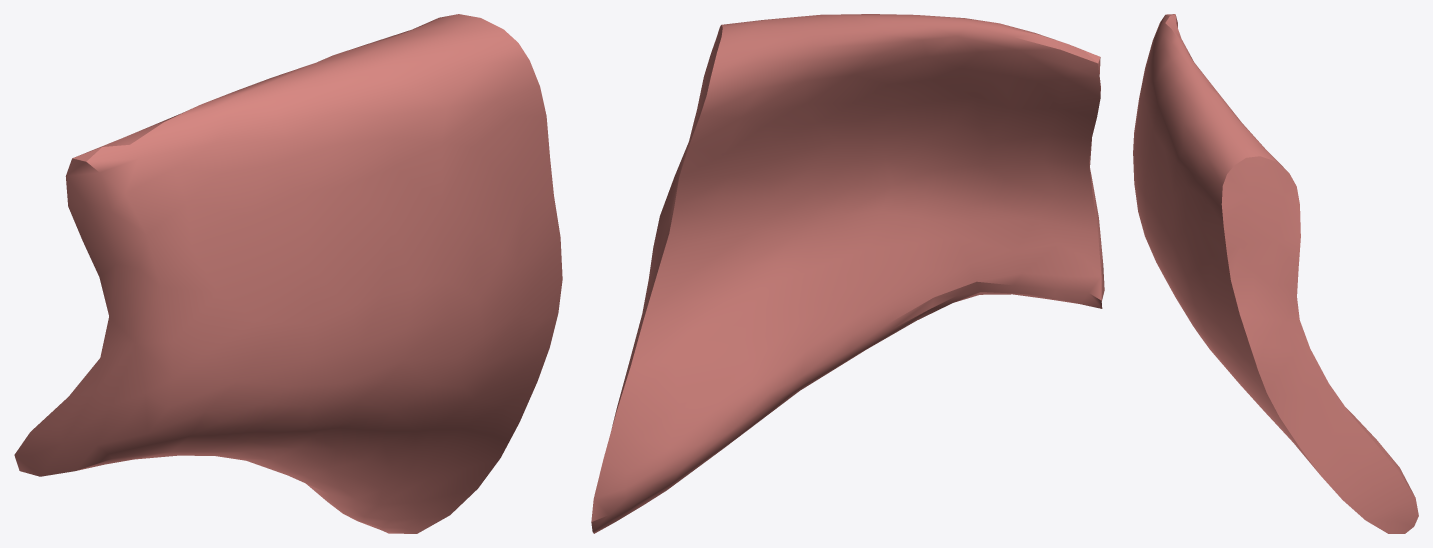
File: fma298621_mm1770.glb
The picture shows the model from 3 angles, left to right: view 1: azimuth 30°, elevation 25°; view 2: azimuth 150°, elevation 25°; view 3: azimuth 270°, elevation 25°; orthographic projection. The views are drawn at different scales.
Visible parts, largest first — view 1: FMA298621_MM1770; view 2: FMA298621_MM1770; view 3: FMA298621_MM1770.
Boxes of the visible parts, <box> form: FMA298621_MM1770: <box>14,14,562,533</box>; FMA298621_MM1770: <box>591,14,1104,533</box>; FMA298621_MM1770: <box>1133,14,1418,533</box>.
Bounding box in the file's own units: 0.0295 × 0.0319 × 0.0214.
